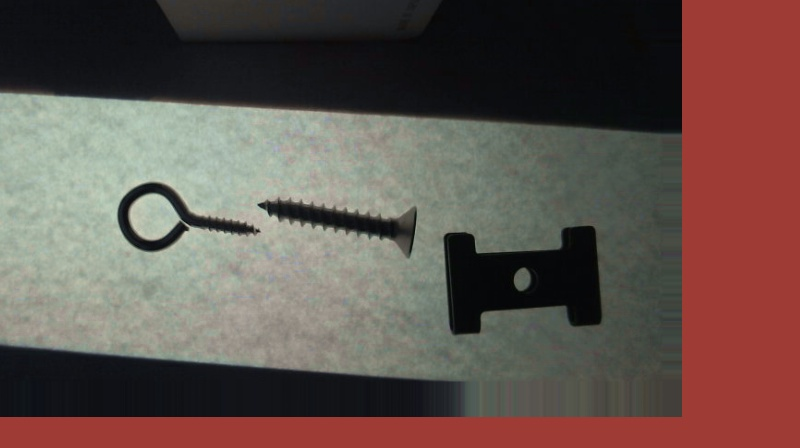O001: (115, 182, 258, 253)
O002: (440, 225, 601, 334)
S001: (255, 195, 416, 258)
